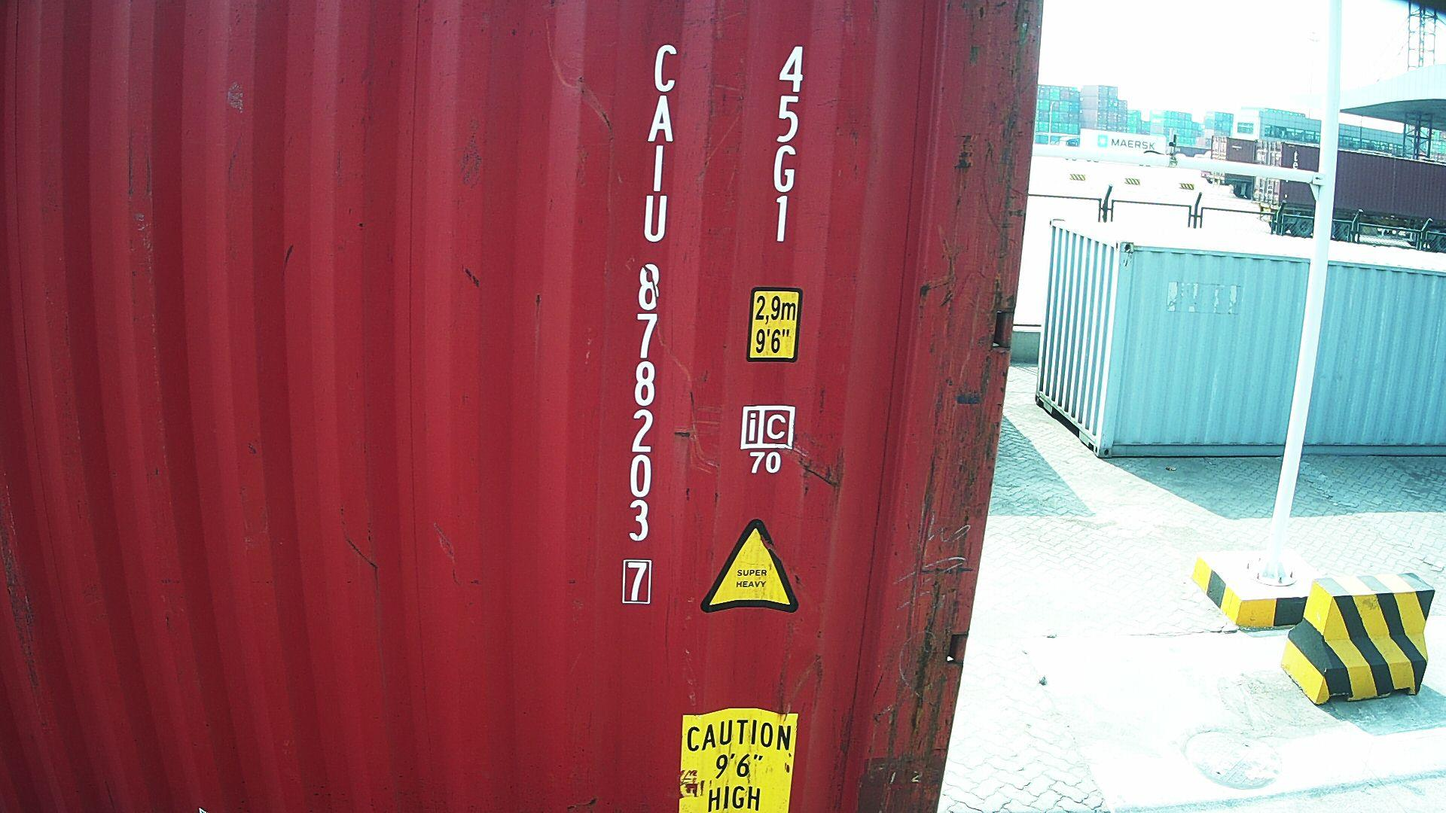container-numbers: (615, 38, 682, 614), (764, 41, 810, 248)
